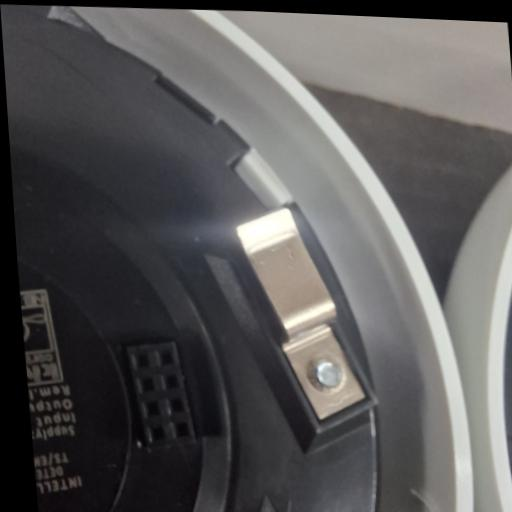yaysiz: (232, 203, 373, 424)
